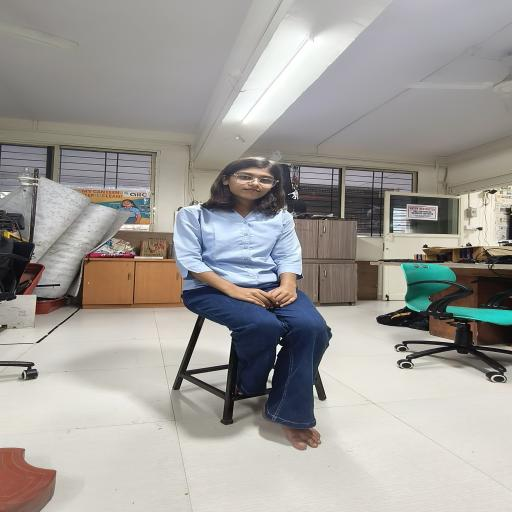survivor: (172, 157, 332, 451)
